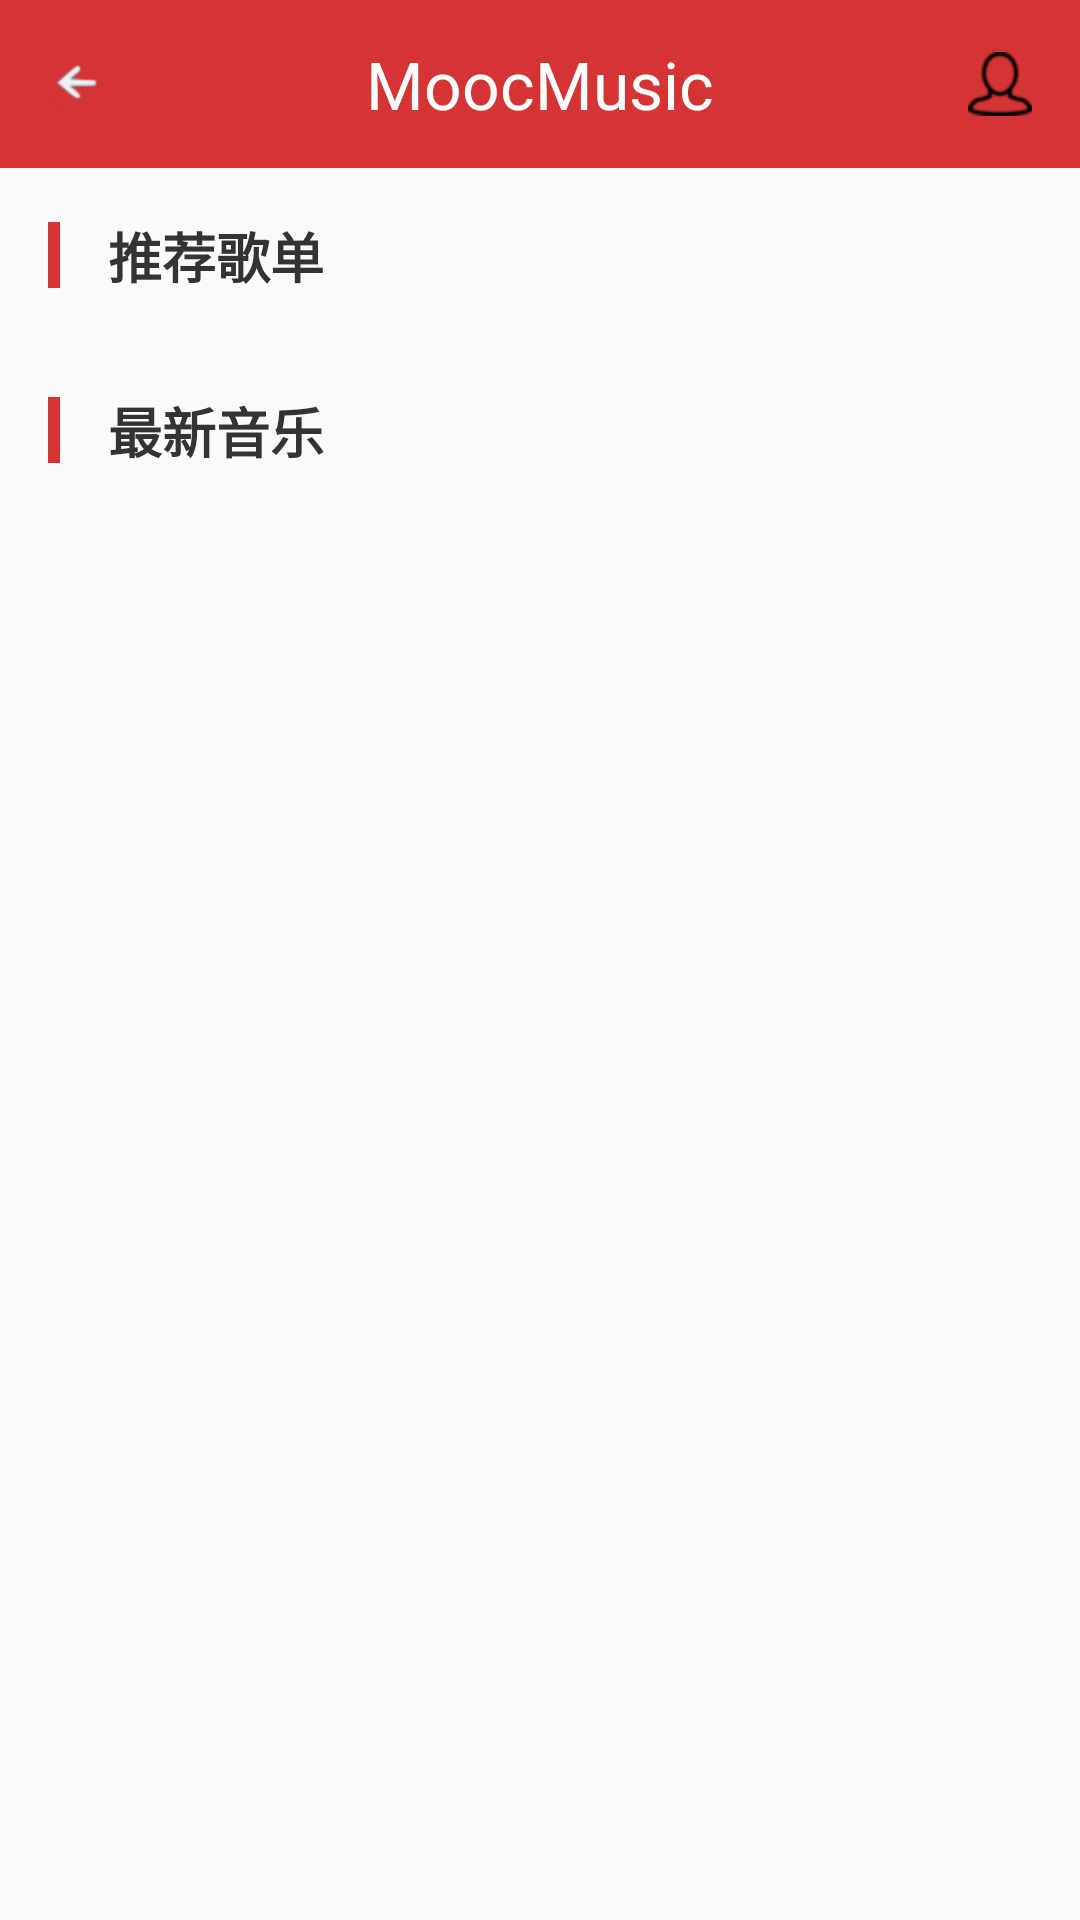

Screen size 1080 × 1920. Icon name, then its center in pixels as (x,y):
back: (77,82)
user: (1000,84)
